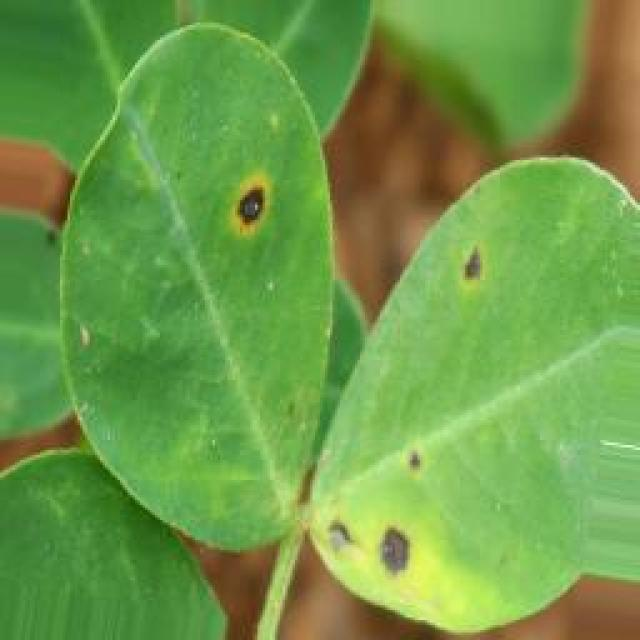Sigatoka: (331, 515, 443, 582), (230, 175, 307, 270), (433, 229, 510, 321), (392, 440, 440, 500)
